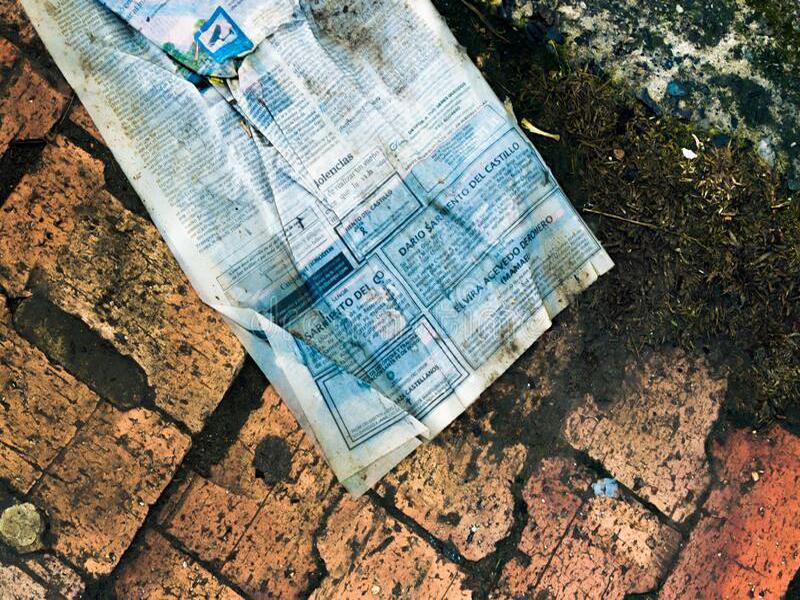paper: (18, 1, 619, 500)
